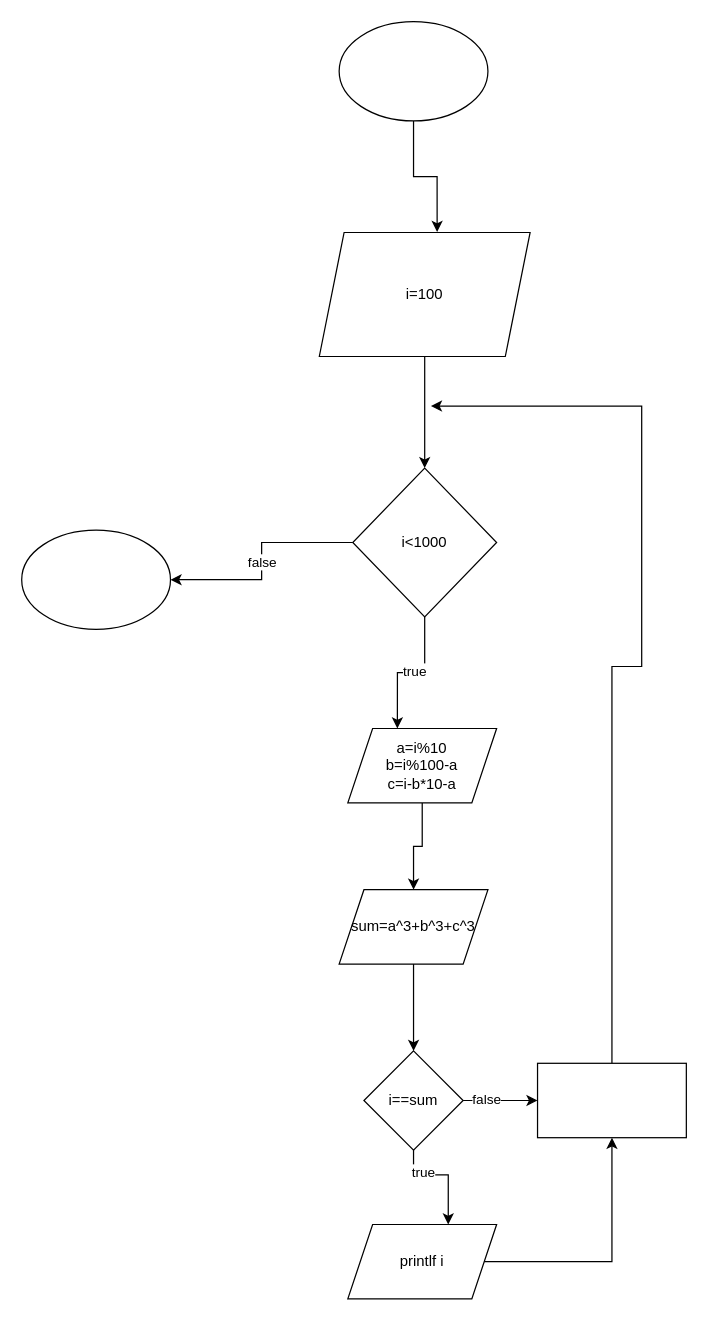
This 708x1321 diagram has some shape labels left out. The shapes that lost their labels are listed below. From the top down, each one's centre as x and y in pixels, then its label:
At [413,70]: "start".
At [95,579]: "end".
At [611,1100]: "i++".
